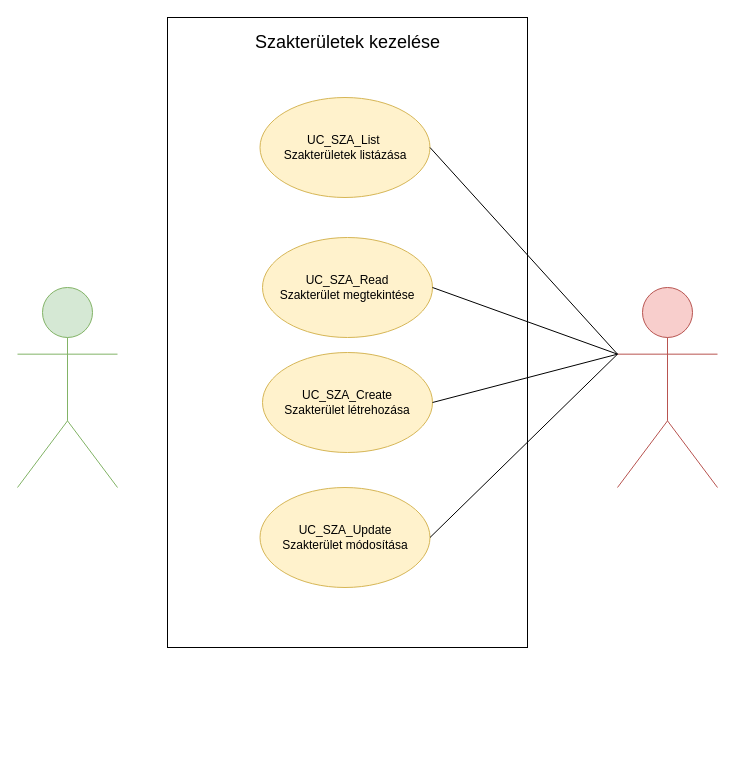
Some shapes in this 742 by 775 pixel diagram are drawn without their labels. The shapes that lost their labels are listed below. From the top down, each one's box as (x1, y1, x2, y2) in pixels, then its label:
(16, 286, 118, 488): Látogató
(616, 286, 718, 488): Adminisztrátor
